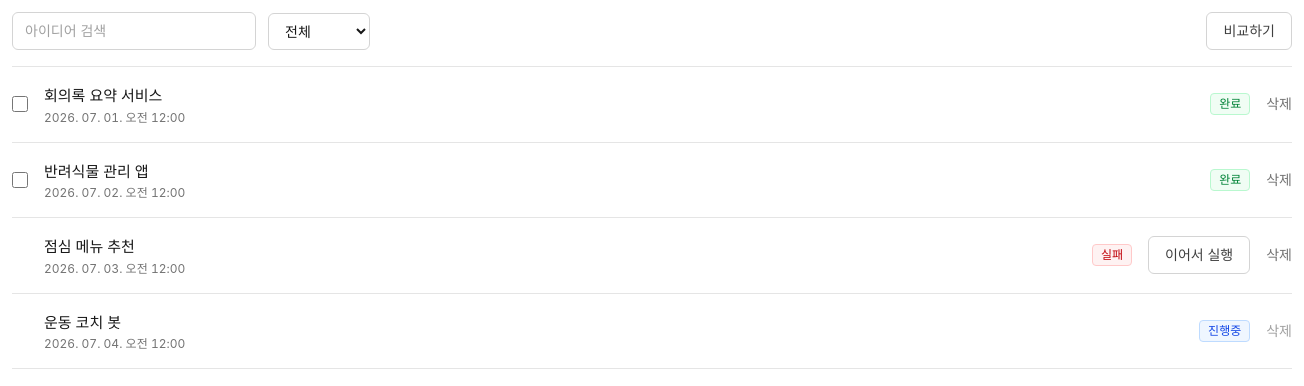
Test: RunList 삭제 › 삭제된 run은 비교 선택에서도 빠진다
Check: the link "회의록 요약 서비스" is shown, box [44, 86, 162, 105]
Click the checkbox named "회의록 요약 서비스 비교 선택".
click(20, 104)  # box [12, 96, 28, 112]
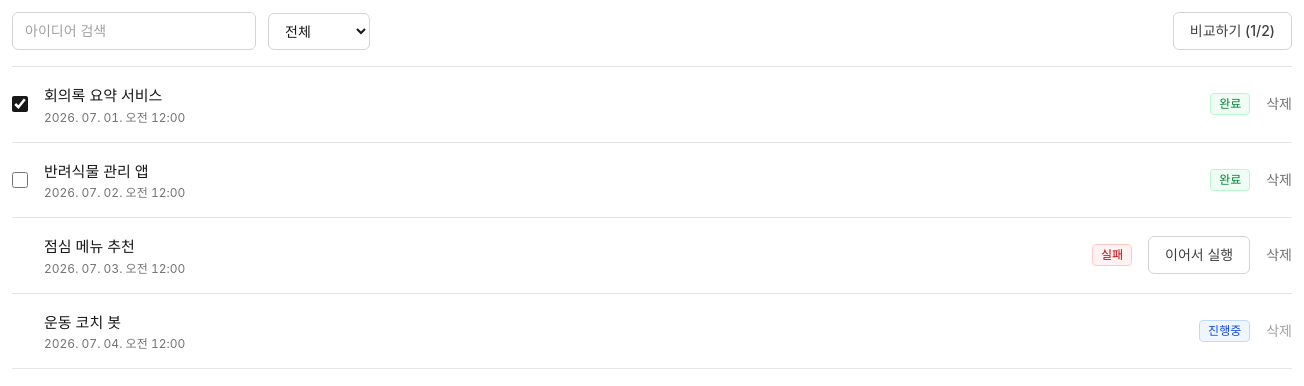
Click the checkbox named "반려식물 관리 앱 비교 선택".
click(20, 180)  # box [12, 172, 28, 188]
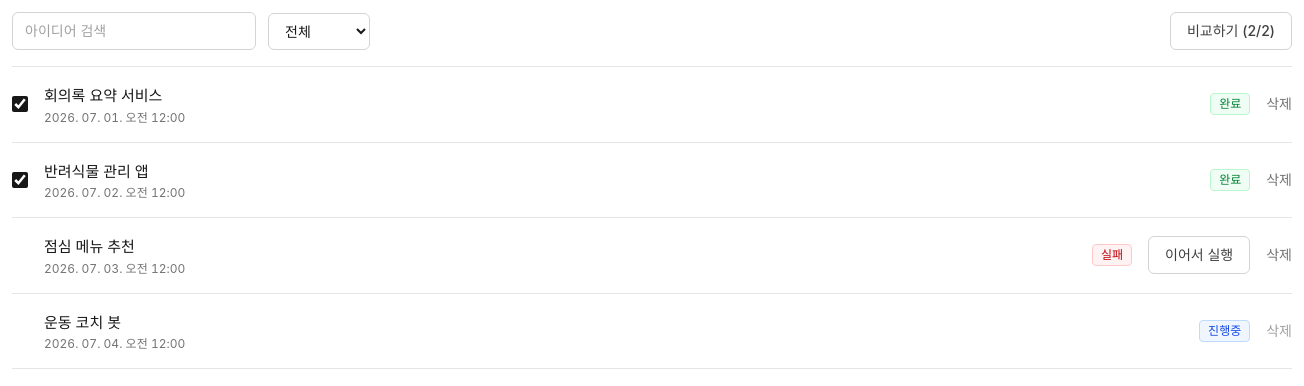
Check: the button "비교하기 (2/2)" is enabled, box [1170, 12, 1292, 50]
Click the button "삭제" in the row of "회의록 요약 서비스".
click(1279, 104)  # box [1266, 94, 1292, 114]
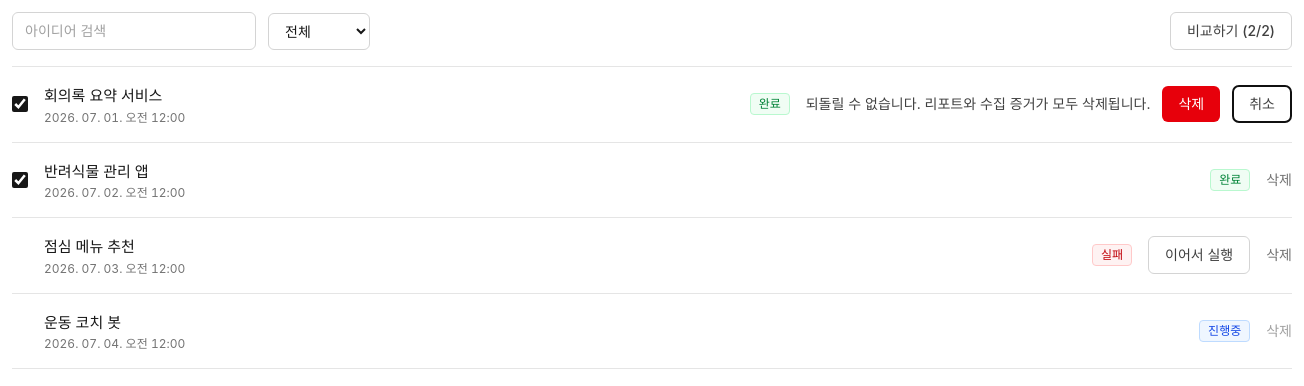
Click the button "삭제" next to "되돌릴 수 없습니다. 리포트와 수집 증거가 모두 삭제됩니다.".
click(1191, 104)  # box [1162, 86, 1220, 122]
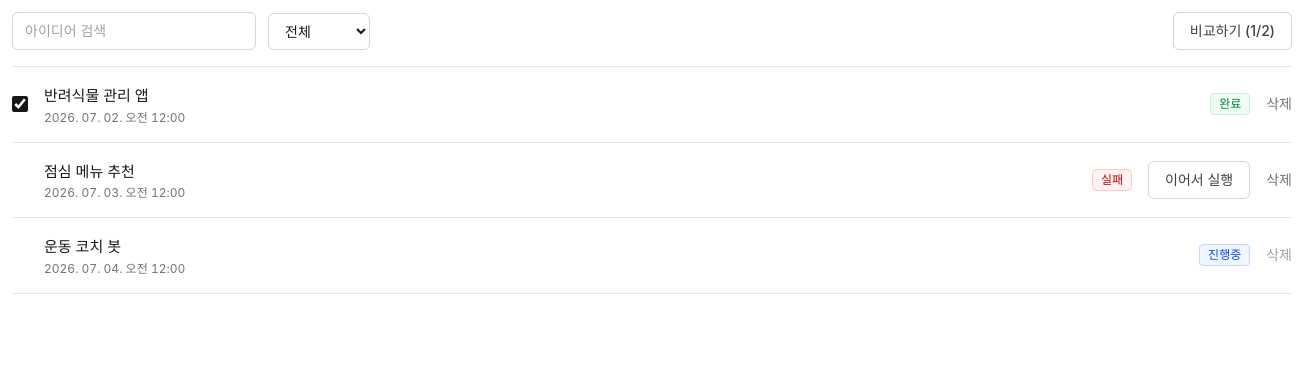
Check: the button "비교하기 (1/2)" is disabled, box [1173, 12, 1292, 50]
